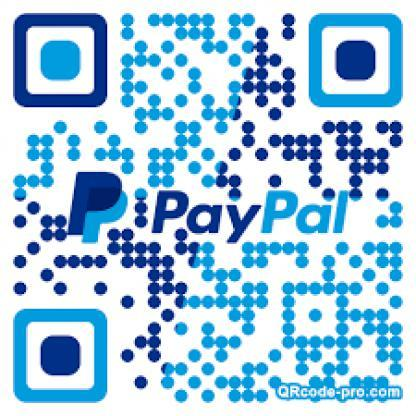qr_code: (11, 12, 405, 402)
